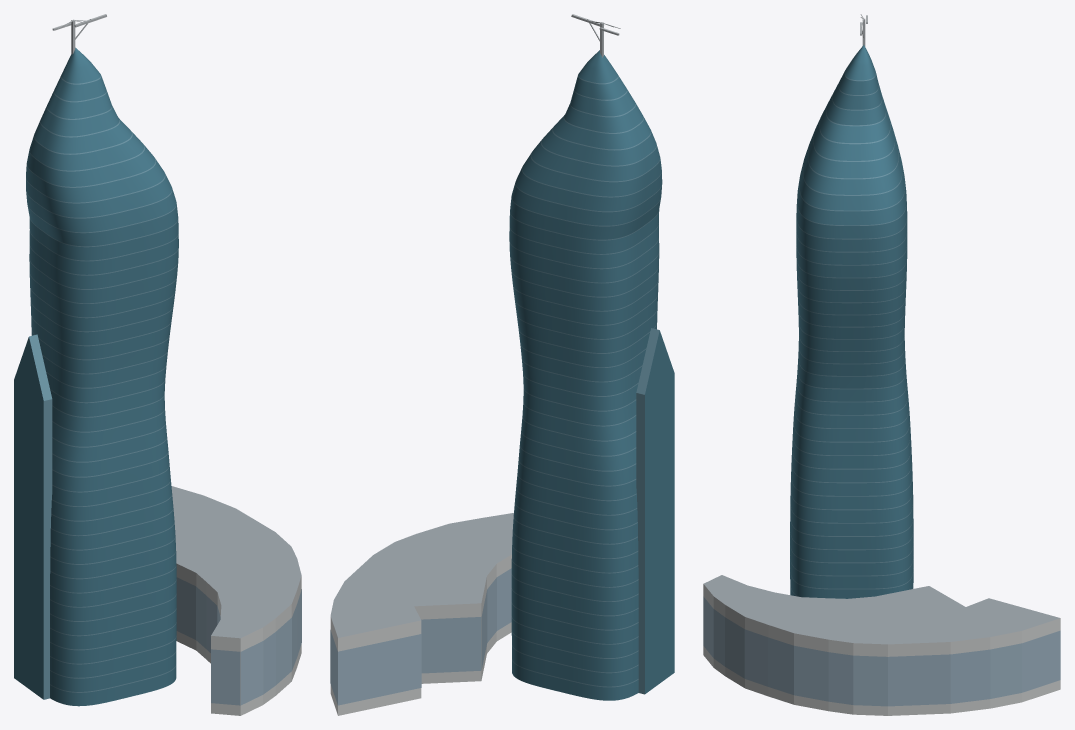
File: baku-socar-tower.detail.glb
3 views of the same model, side by side, from view 1: azimuth 30°, elevation 25°; view 2: azimuth 150°, elevation 25°; view 3: azimuth 270°, elevation 25° (orthographic). The views are drawn at different scales.
Parts seen in each view (by area): view 1: SOCAR Tower; view 2: SOCAR Tower; view 3: SOCAR Tower.
Boxes of the visible parts, x1,y1,x2,y2 form: SOCAR Tower: (14, 14, 301, 715); SOCAR Tower: (330, 14, 674, 715); SOCAR Tower: (703, 14, 1060, 715).
Bounding box in the file's own units: 93.28 × 218 × 118.
